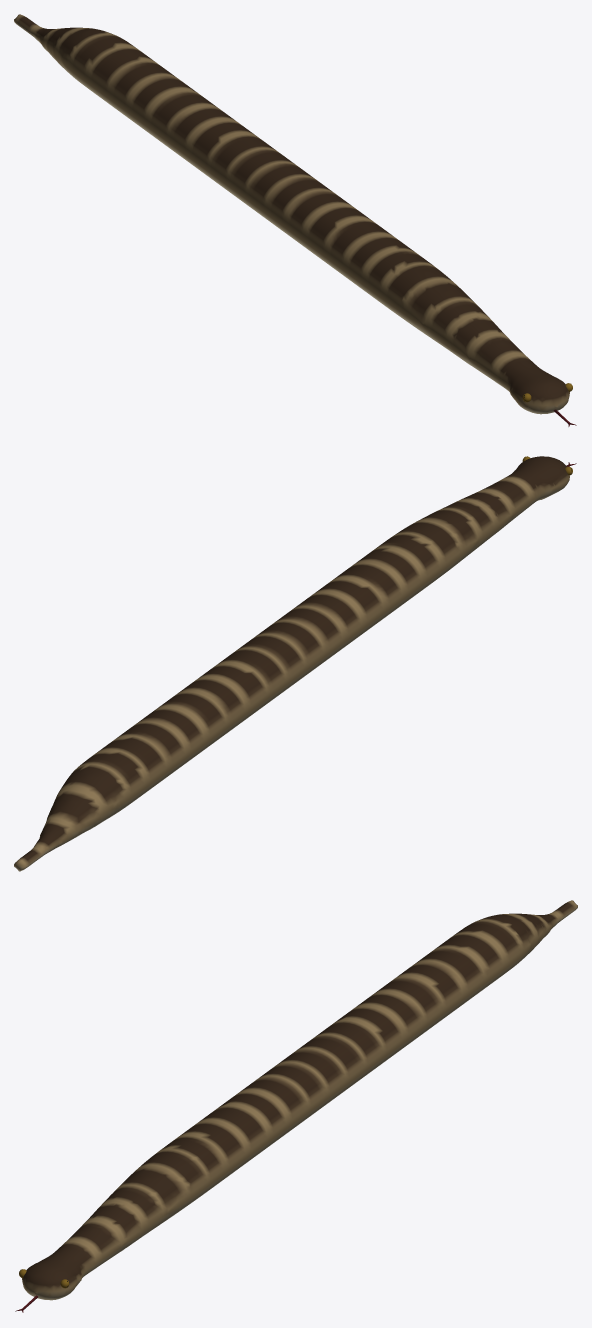
File: GigantophisGarstini.fbx
The picture shows the model from 3 angles, top to bottom: view 1: azimuth 30°, elevation 25°; view 2: azimuth 150°, elevation 25°; view 3: azimuth 330°, elevation 25°; orthographic projection.
Visible parts, largest first — view 1: GigantophisGarstini; view 2: GigantophisGarstini; view 3: GigantophisGarstini.
Part boxes in pixels (x1,y1,x2,y2): GigantophisGarstini: (14, 14, 576, 426); GigantophisGarstini: (14, 456, 576, 871); GigantophisGarstini: (15, 900, 577, 1312).
Size of the model in its own units: 0.1516 by 0.1262 by 2.47.
